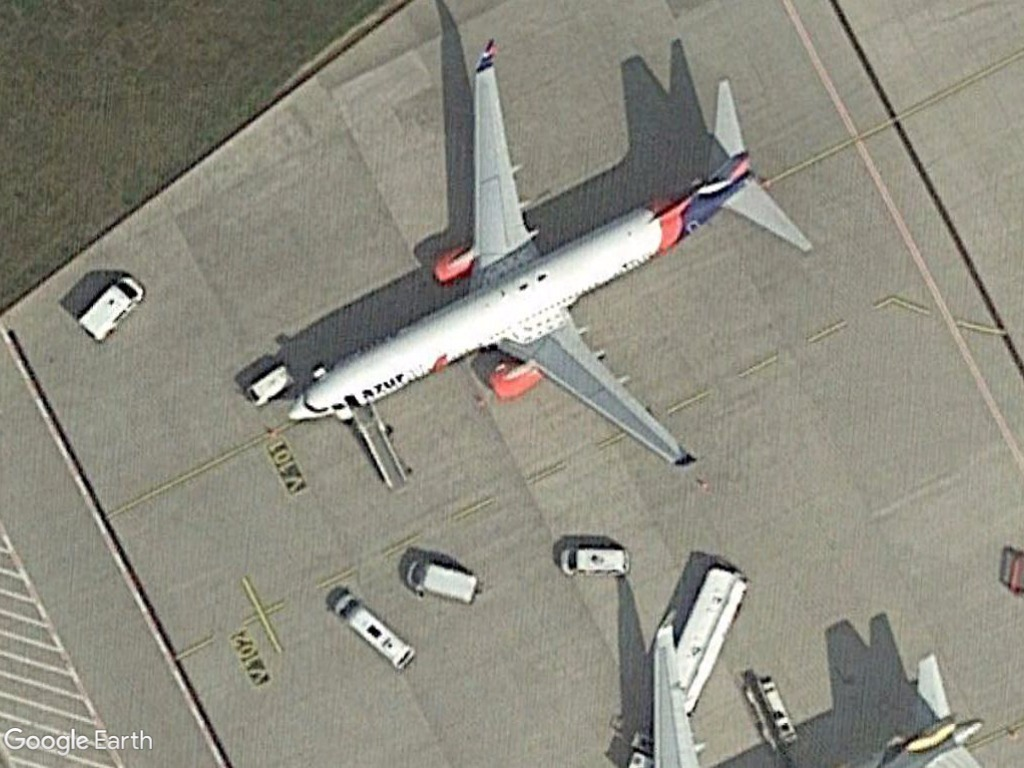airliner: (282, 25, 817, 474)
stairtruck: (349, 405, 411, 491)
van: (327, 589, 418, 670), (75, 272, 147, 346), (403, 550, 484, 610), (558, 543, 638, 581)
